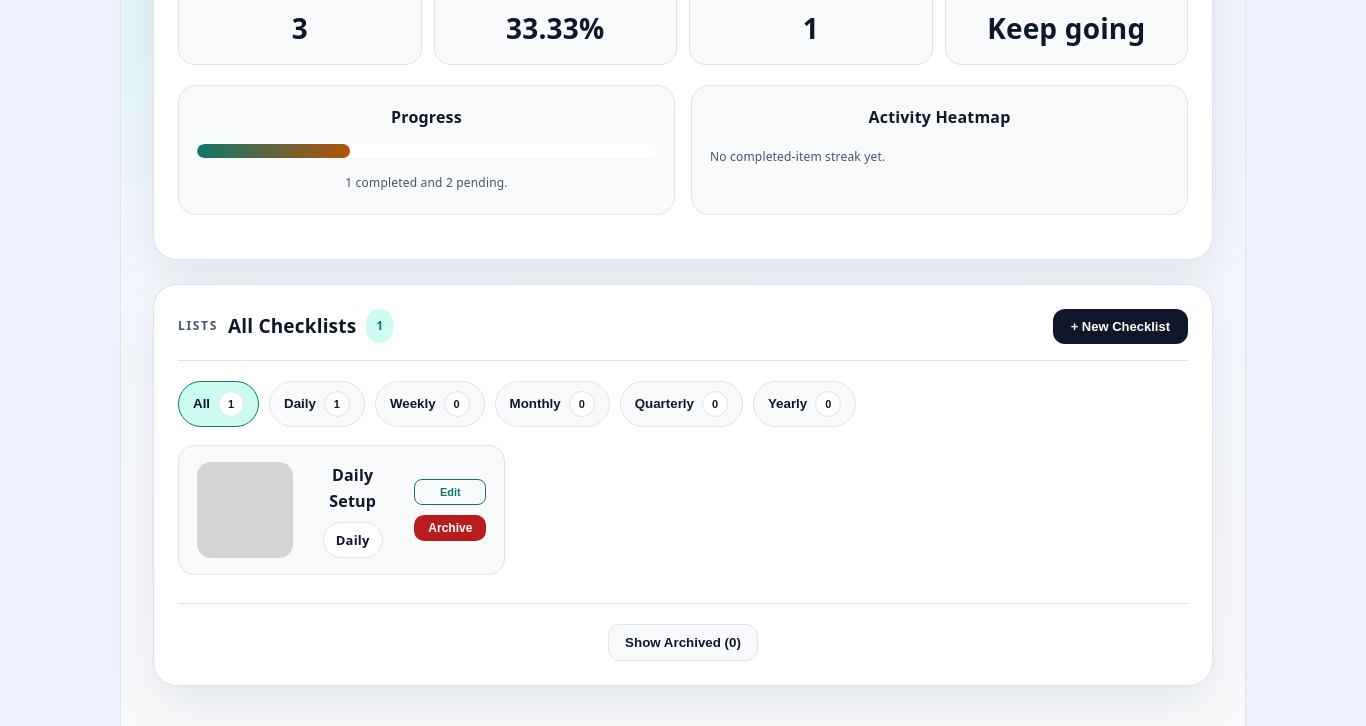
Test case: Dashboard › opens a checklist and requests items using saved sort defaults
(page scrolled)
Click the text "Daily Setup": click(353, 488) [329,464,376,512]
(page scrolled)
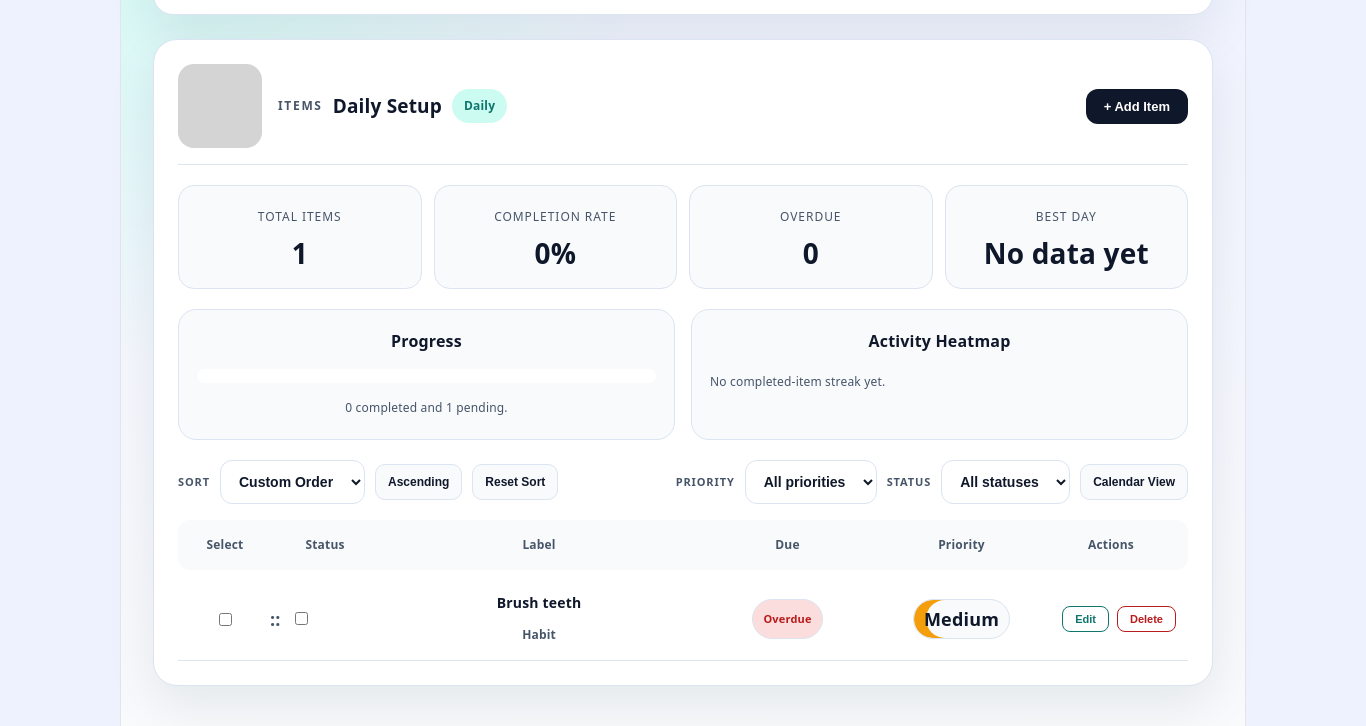
Expected: the text "Brush teeth" is shown, [497,593,581,612]
Expected: the button "Calendar View" is shown, [1080,464,1188,500]
